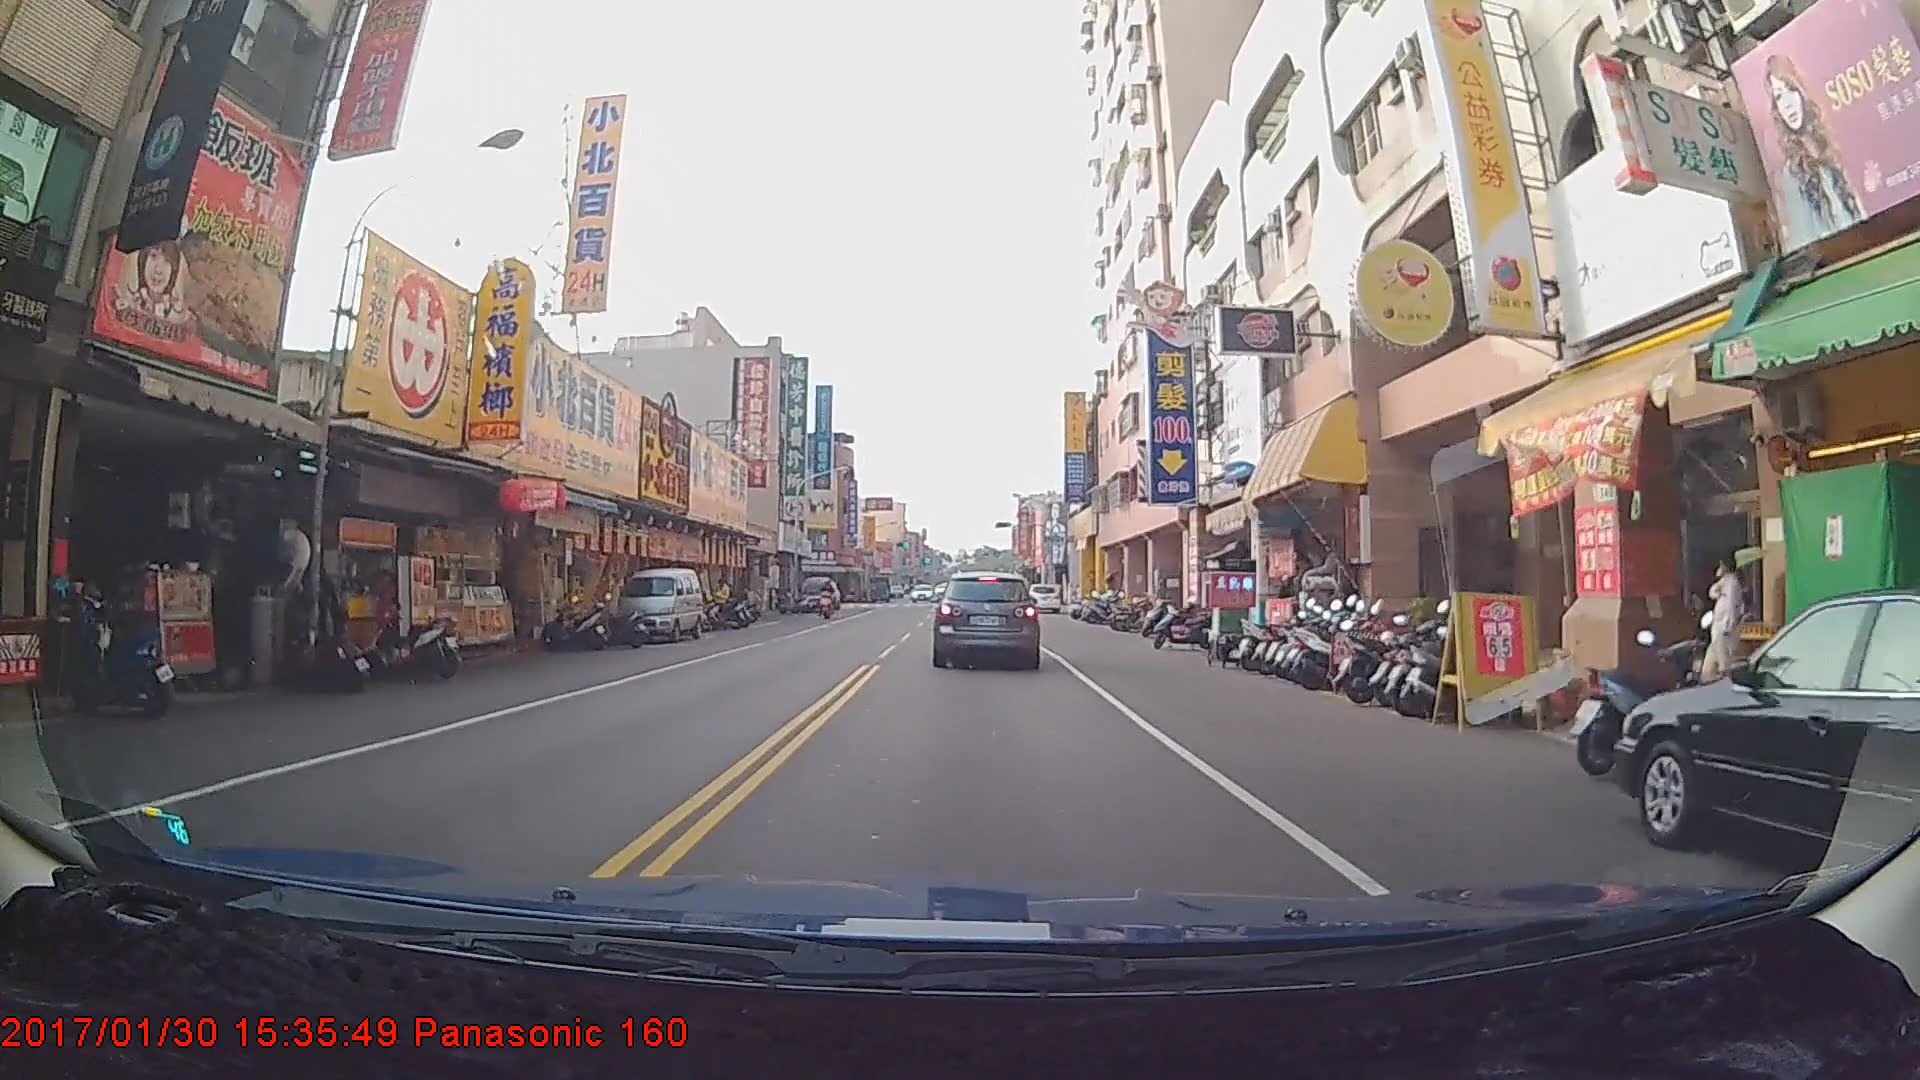pedestrian: (1699, 559, 1756, 701), (707, 574, 732, 625)
rider: (814, 574, 838, 619)
vehicle: (1611, 589, 1920, 932), (934, 569, 1041, 669), (611, 565, 702, 641), (800, 572, 835, 609), (1027, 584, 1061, 614)
